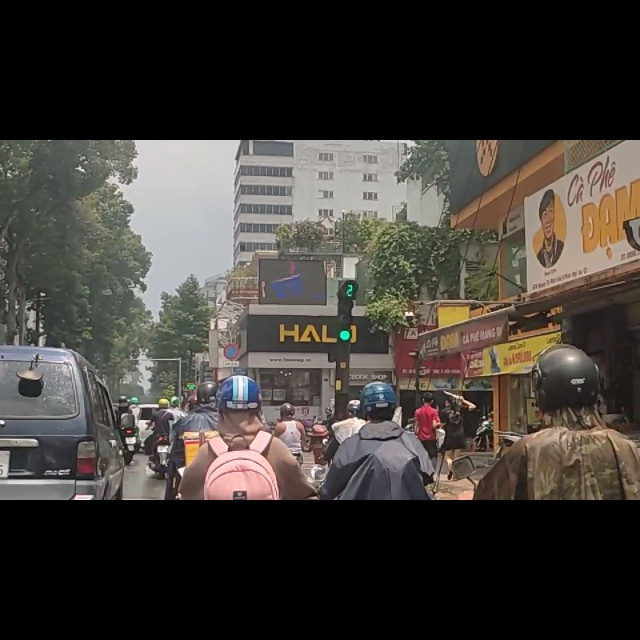bien_cam: (223, 363, 241, 390)
